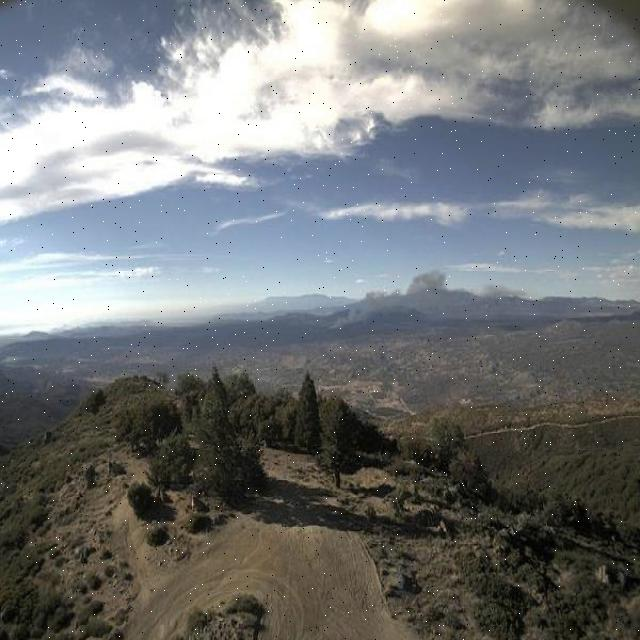smoke: (325, 264, 529, 332)
